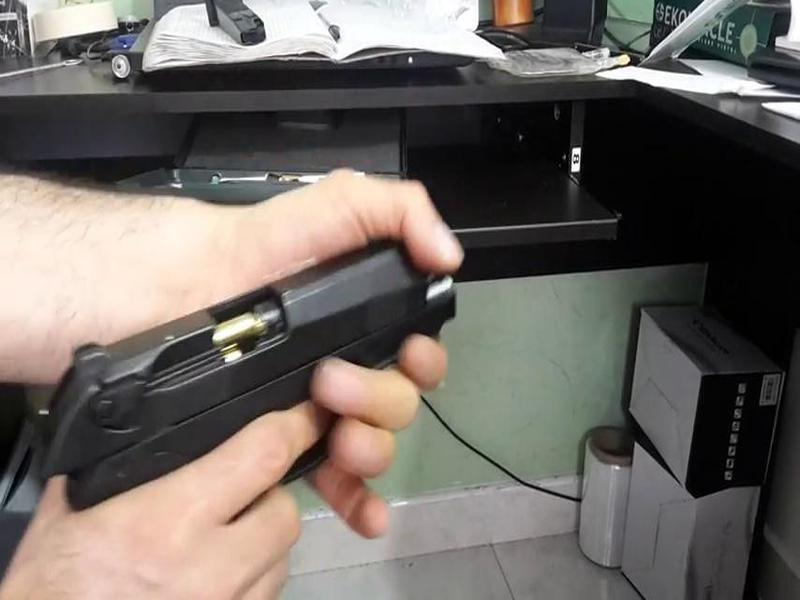Pistola: (26, 227, 476, 515)
